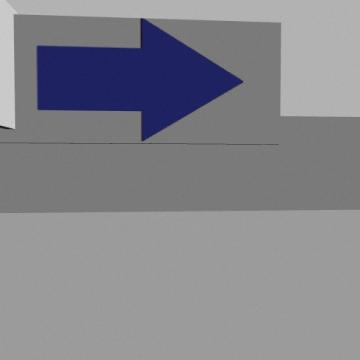blue_right: (37, 19, 242, 140)
